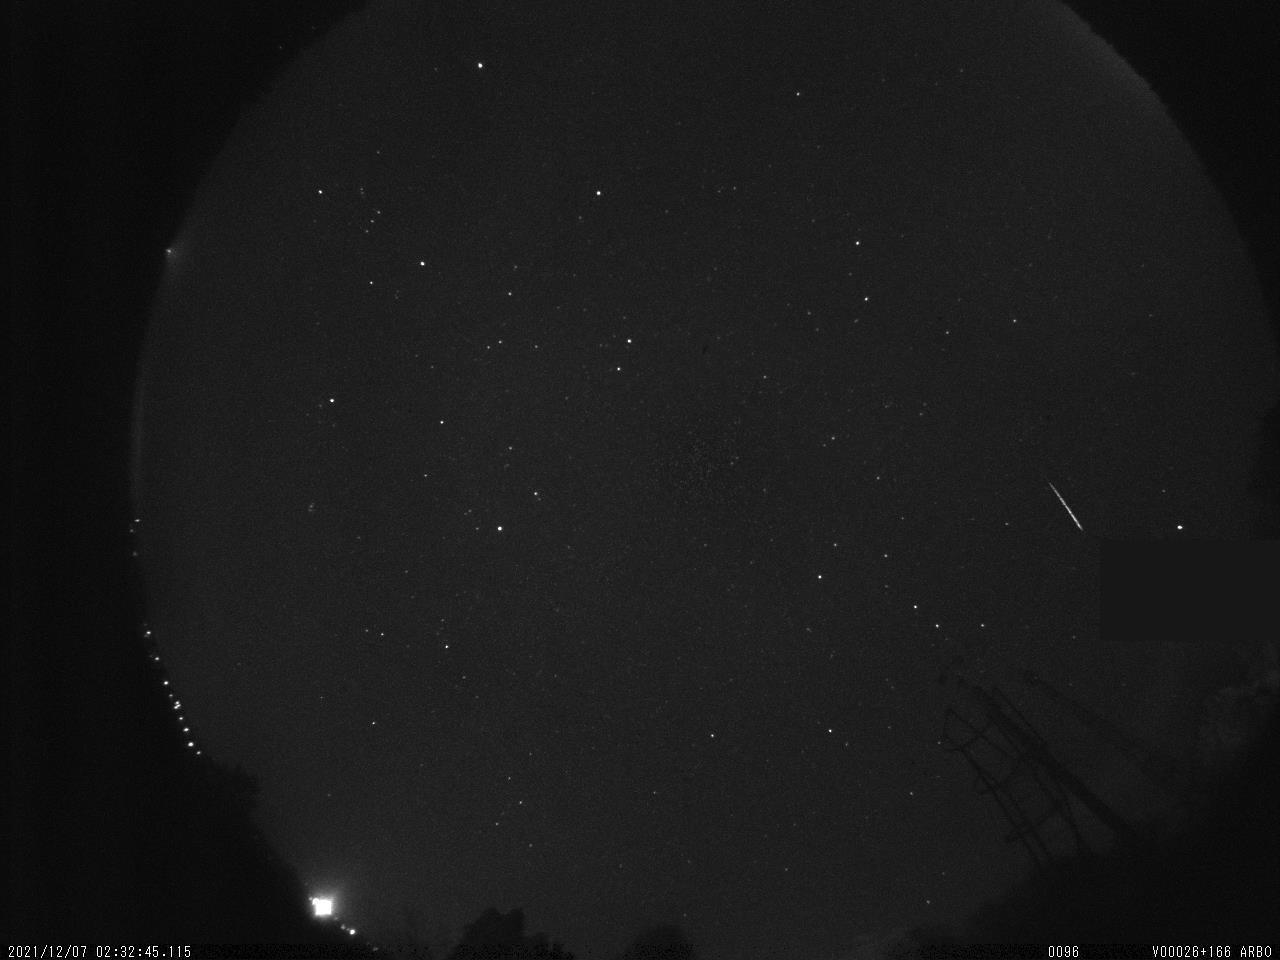meteor: (1034, 463, 1098, 552)
